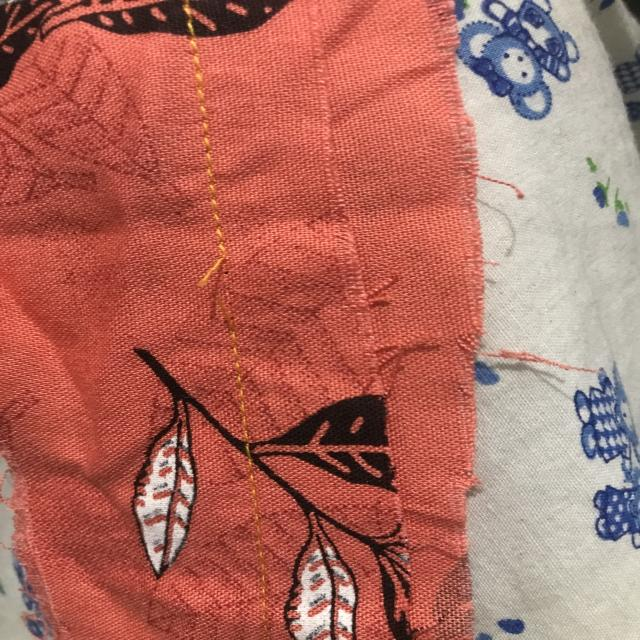broken: (188, 240, 263, 338)
good: (187, 97, 240, 209)
